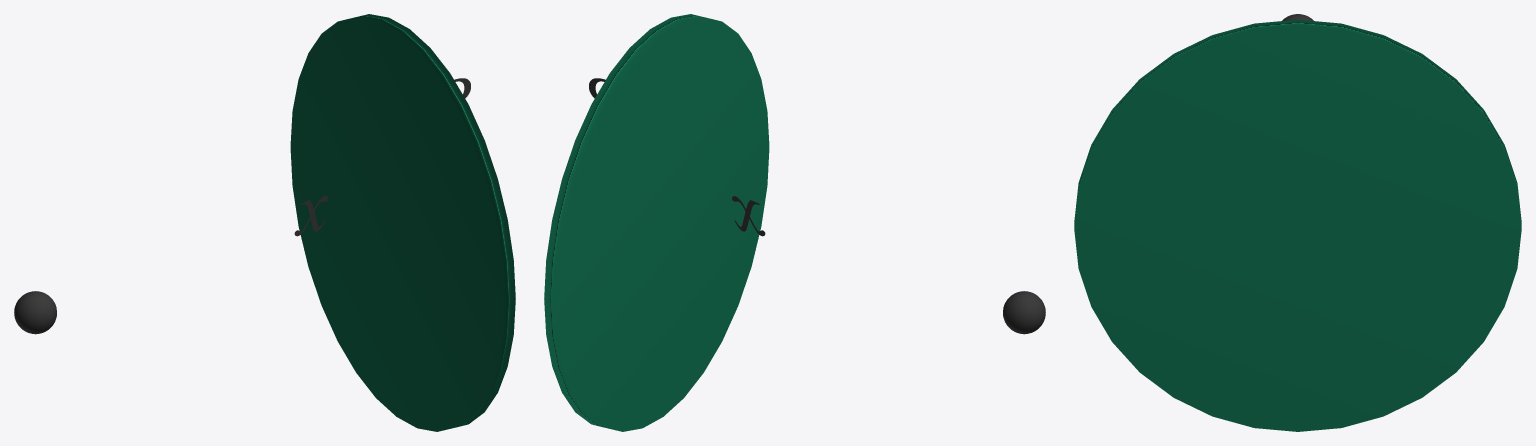
File: 20_Flux through disc.glb
3 renders of one model, left to right at view 1: azimuth 30°, elevation 25°; view 2: azimuth 150°, elevation 25°; view 3: azimuth 270°, elevation 25°, orthographic. The views are drawn at different scales.
Visible parts, largest first — view 1: Cylinder.002, Sphere; view 2: Cylinder.002, Sphere; view 3: Cylinder.002.
Part boxes in pixels (left/top/right/bottom): Cylinder.002: left=290, top=14, right=515, bottom=431; Sphere: left=14, top=291, right=56, bottom=334; Cylinder.002: left=544, top=14, right=769, bottom=431; Sphere: left=1003, top=291, right=1045, bottom=334; Cylinder.002: left=1074, top=19, right=1521, bottom=431.
Bounding box in the file's own units: 2.47 × 2 × 2.
